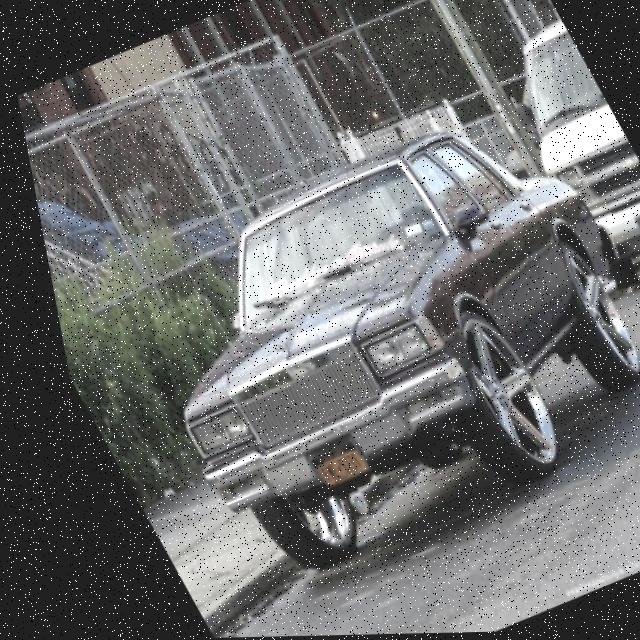license_plate: (284, 441, 361, 498)
